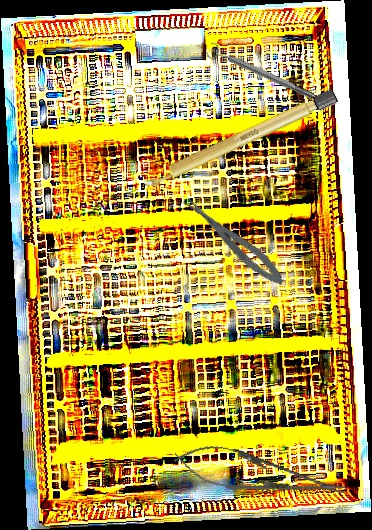Fixation Ring: (204, 40, 318, 106)
Micro Scissor: (180, 190, 290, 292)
Needle Holder: (170, 437, 350, 512)
Scalpel Handle: (137, 87, 341, 193)
